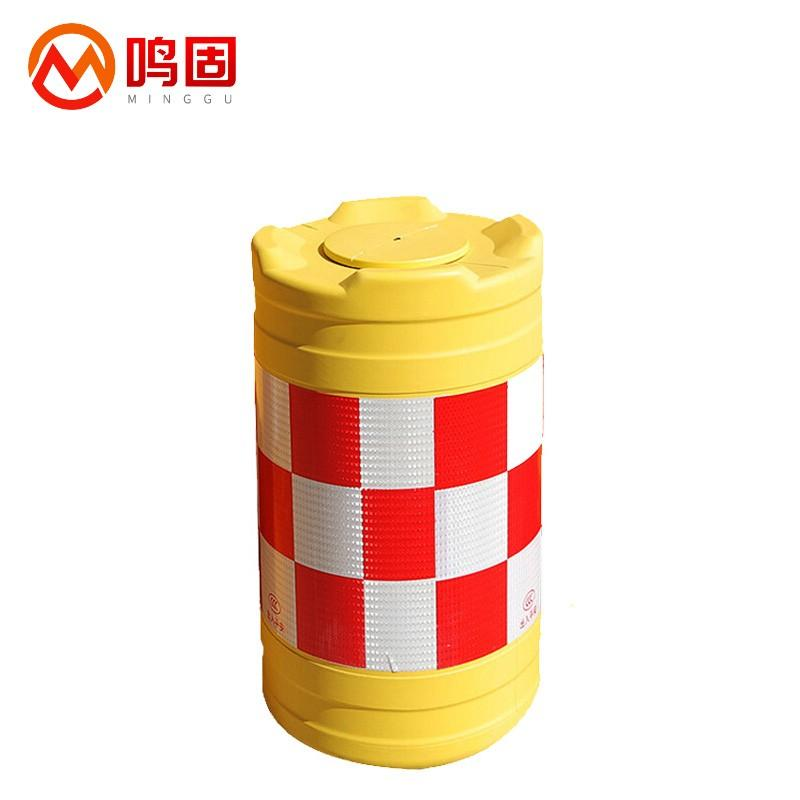sign: (227, 194, 566, 769)
